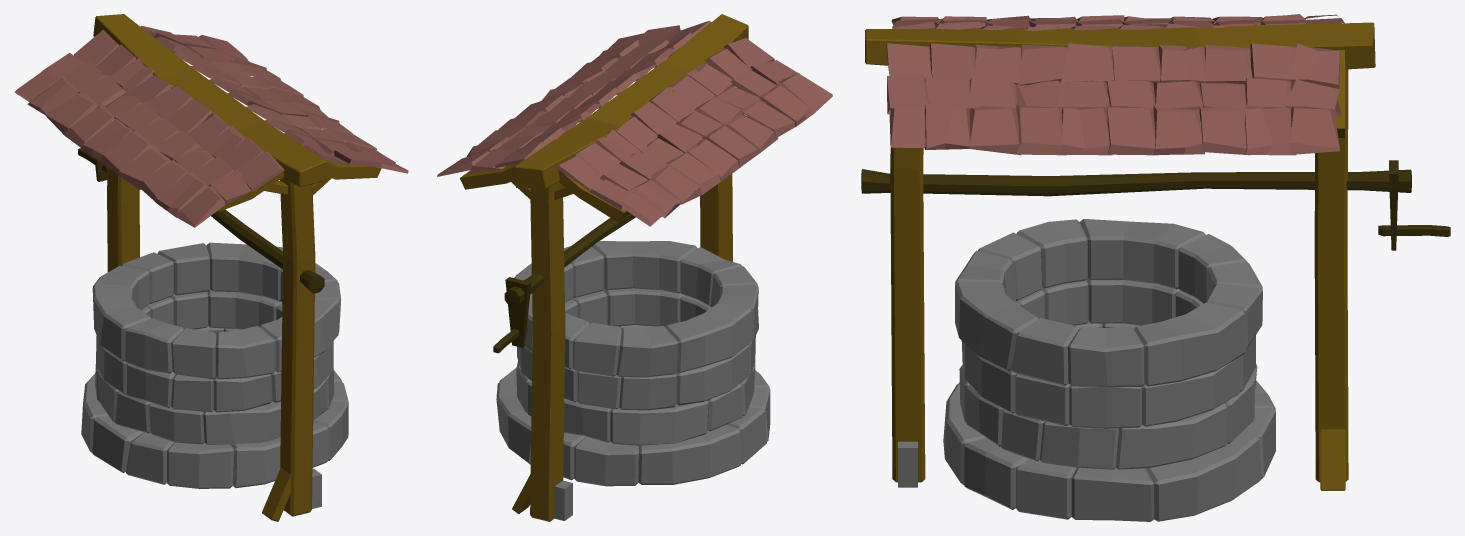
File: well.fbx
The picture shows the model from 3 angles, left to right: view 1: azimuth 30°, elevation 25°; view 2: azimuth 150°, elevation 25°; view 3: azimuth 270°, elevation 25°; orthographic projection. The views are drawn at different scales.
Parts seen in each view (by area): view 1: Cube.004; view 2: Cube.004; view 3: Cube.004.
Boxes of the visible parts, x1,y1,x2,y2 form: Cube.004: (14,14,408,521); Cube.004: (437,14,832,521); Cube.004: (861,14,1450,521).
Size of the model in its own units: 1319 by 1944 by 2311.
